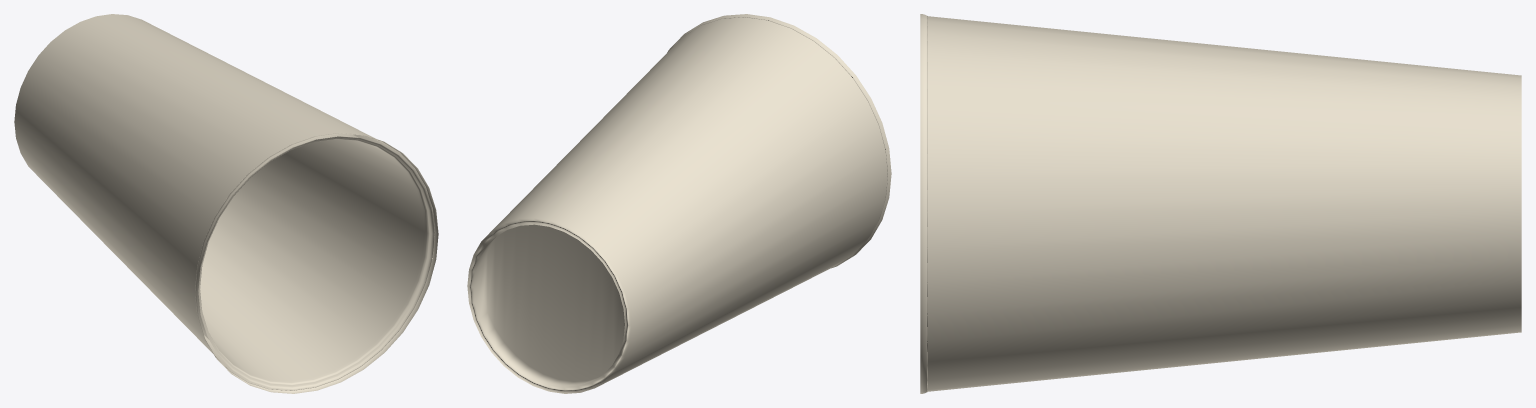
The model's file is paper-cup-takeaway.glb.
The picture shows the model from 3 angles, left to right: view 1: azimuth 30°, elevation 25°; view 2: azimuth 150°, elevation 25°; view 3: azimuth 270°, elevation 25°; orthographic projection. The views are drawn at different scales.
Parts seen in each view (by area): view 1: world; view 2: world; view 3: world.
Part boxes in pixels (x1=…): world: x1=14, y1=14, x2=438, y2=393; world: x1=467, y1=14, x2=891, y2=393; world: x1=920, y1=14, x2=1521, y2=393.
Size of the model in its own units: 0.0598 by 0.0598 by 0.0945.
